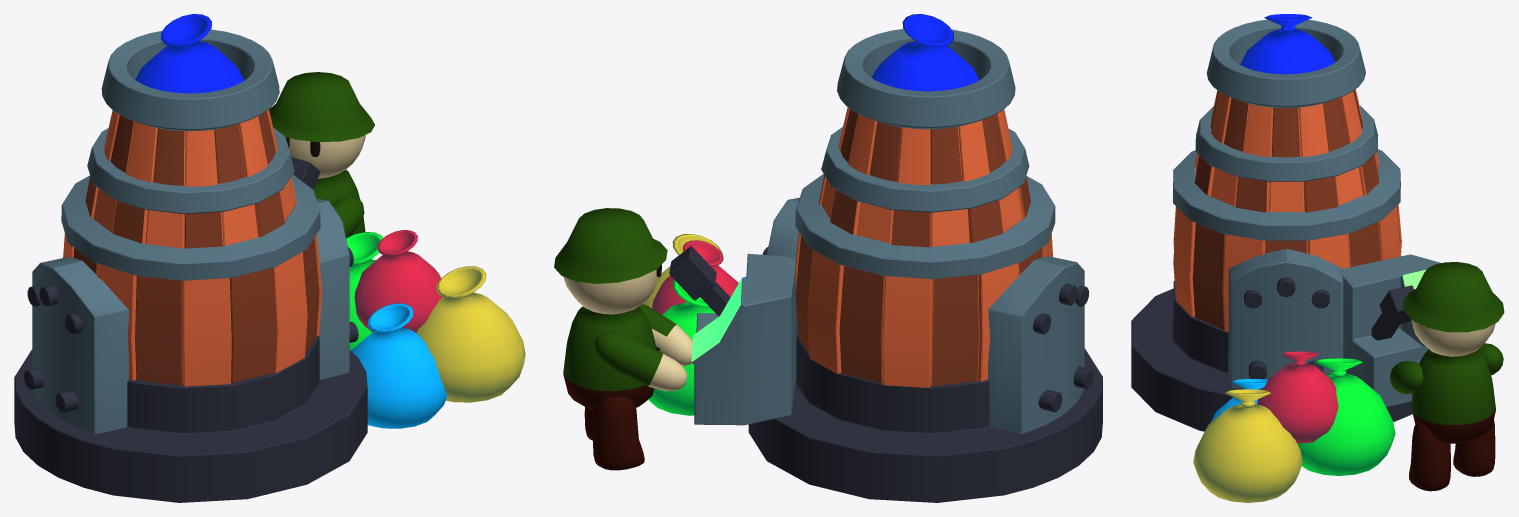
The model's file is bomba_2_.fbx.
3 renders of one model, left to right at view 1: azimuth 30°, elevation 25°; view 2: azimuth 150°, elevation 25°; view 3: azimuth 270°, elevation 25°, orthographic. The views are drawn at different scales.
Visible parts, largest first — view 1: bomba 2, Sphere.001, bomba adam, Sphere.004; view 2: bomba 2, bomba adam, Sphere.004, Sphere.001; view 3: bomba 2, Sphere.001, bomba adam, Sphere.004.
Part boxes in pixels (bbox=[...]): bomba 2: bbox=[14, 29, 367, 502]; Sphere.001: bbox=[346, 230, 525, 428]; bomba adam: bbox=[269, 72, 374, 237]; Sphere.004: bbox=[135, 14, 244, 93]; bomba 2: bbox=[669, 29, 1102, 502]; bomba adam: bbox=[554, 208, 692, 470]; Sphere.004: bbox=[871, 14, 979, 91]; Sphere.001: bbox=[642, 234, 746, 415]; bomba 2: bbox=[1131, 19, 1441, 431]; Sphere.001: bbox=[1193, 351, 1395, 502]; bomba adam: bbox=[1390, 262, 1504, 491]; Sphere.004: bbox=[1240, 14, 1335, 74].
Size of the model in its own units: 396 by 353 by 312.
